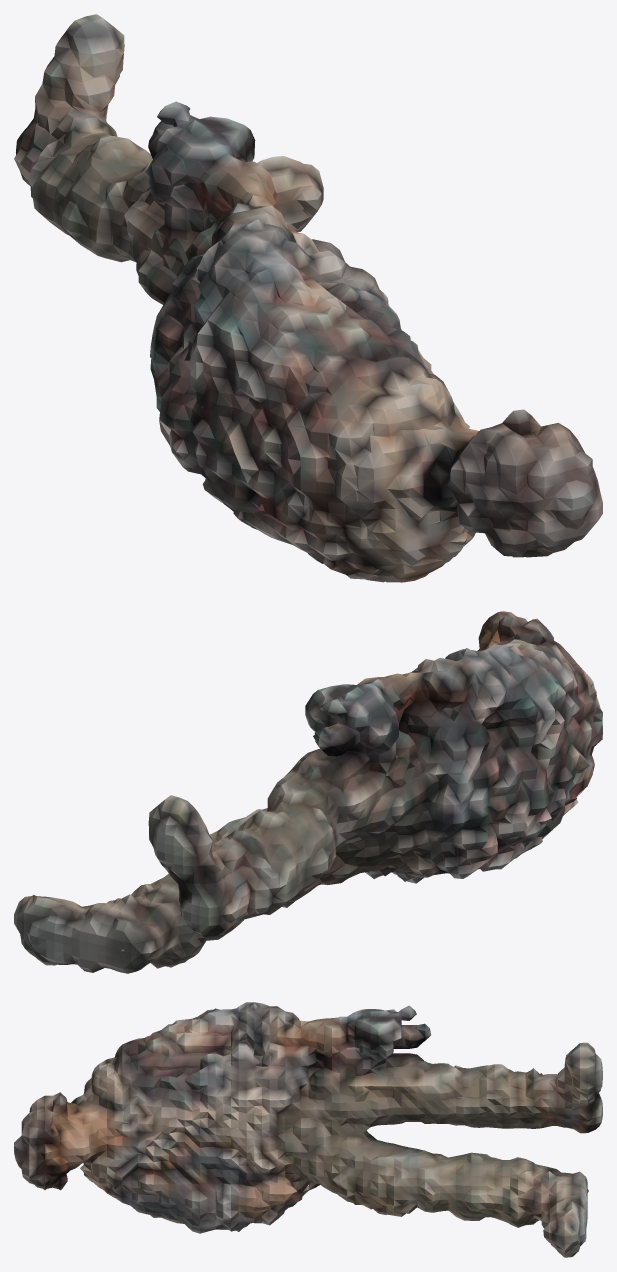
3 renders of one model, top to bottom at view 1: azimuth 30°, elevation 25°; view 2: azimuth 150°, elevation 25°; view 3: azimuth 270°, elevation 25°, orthographic. The views are drawn at different scales.
Parts seen in each view (by area): view 1: world; view 2: world; view 3: world.
Boxes of the visible parts, x1=… form: world: x1=14, y1=14, x2=602, y2=582; world: x1=14, y1=611, x2=602, y2=973; world: x1=14, y1=1002, x2=602, y2=1257.
Bounding box in the file's own units: 0.5201 × 0.4101 × 1.04.
